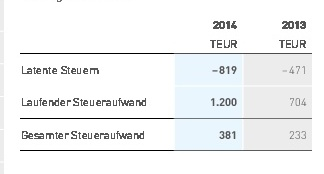table: (0, 0, 324, 174)
